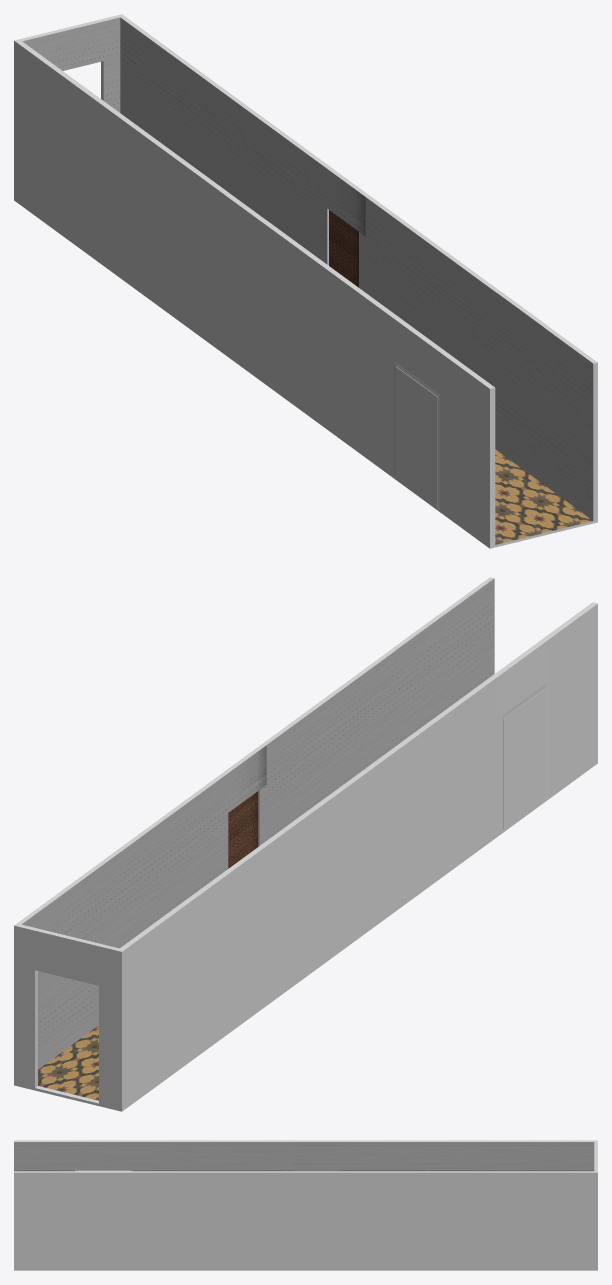
The model's file is Pasillo.fbx.
3 renders of one model, top to bottom at view 1: azimuth 30°, elevation 25°; view 2: azimuth 150°, elevation 25°; view 3: azimuth 270°, elevation 25°, orthographic. The views are drawn at different scales.
Visible parts, largest first — view 1: Pasillo; view 2: Pasillo; view 3: Pasillo.
Boxes of the visible parts, x1,y1,x2,y2 form: Pasillo: (14,14,597,548); Pasillo: (14,577,597,1111); Pasillo: (14,1140,597,1270).
Size of the model in its own units: 265 by 376 by 2025.
